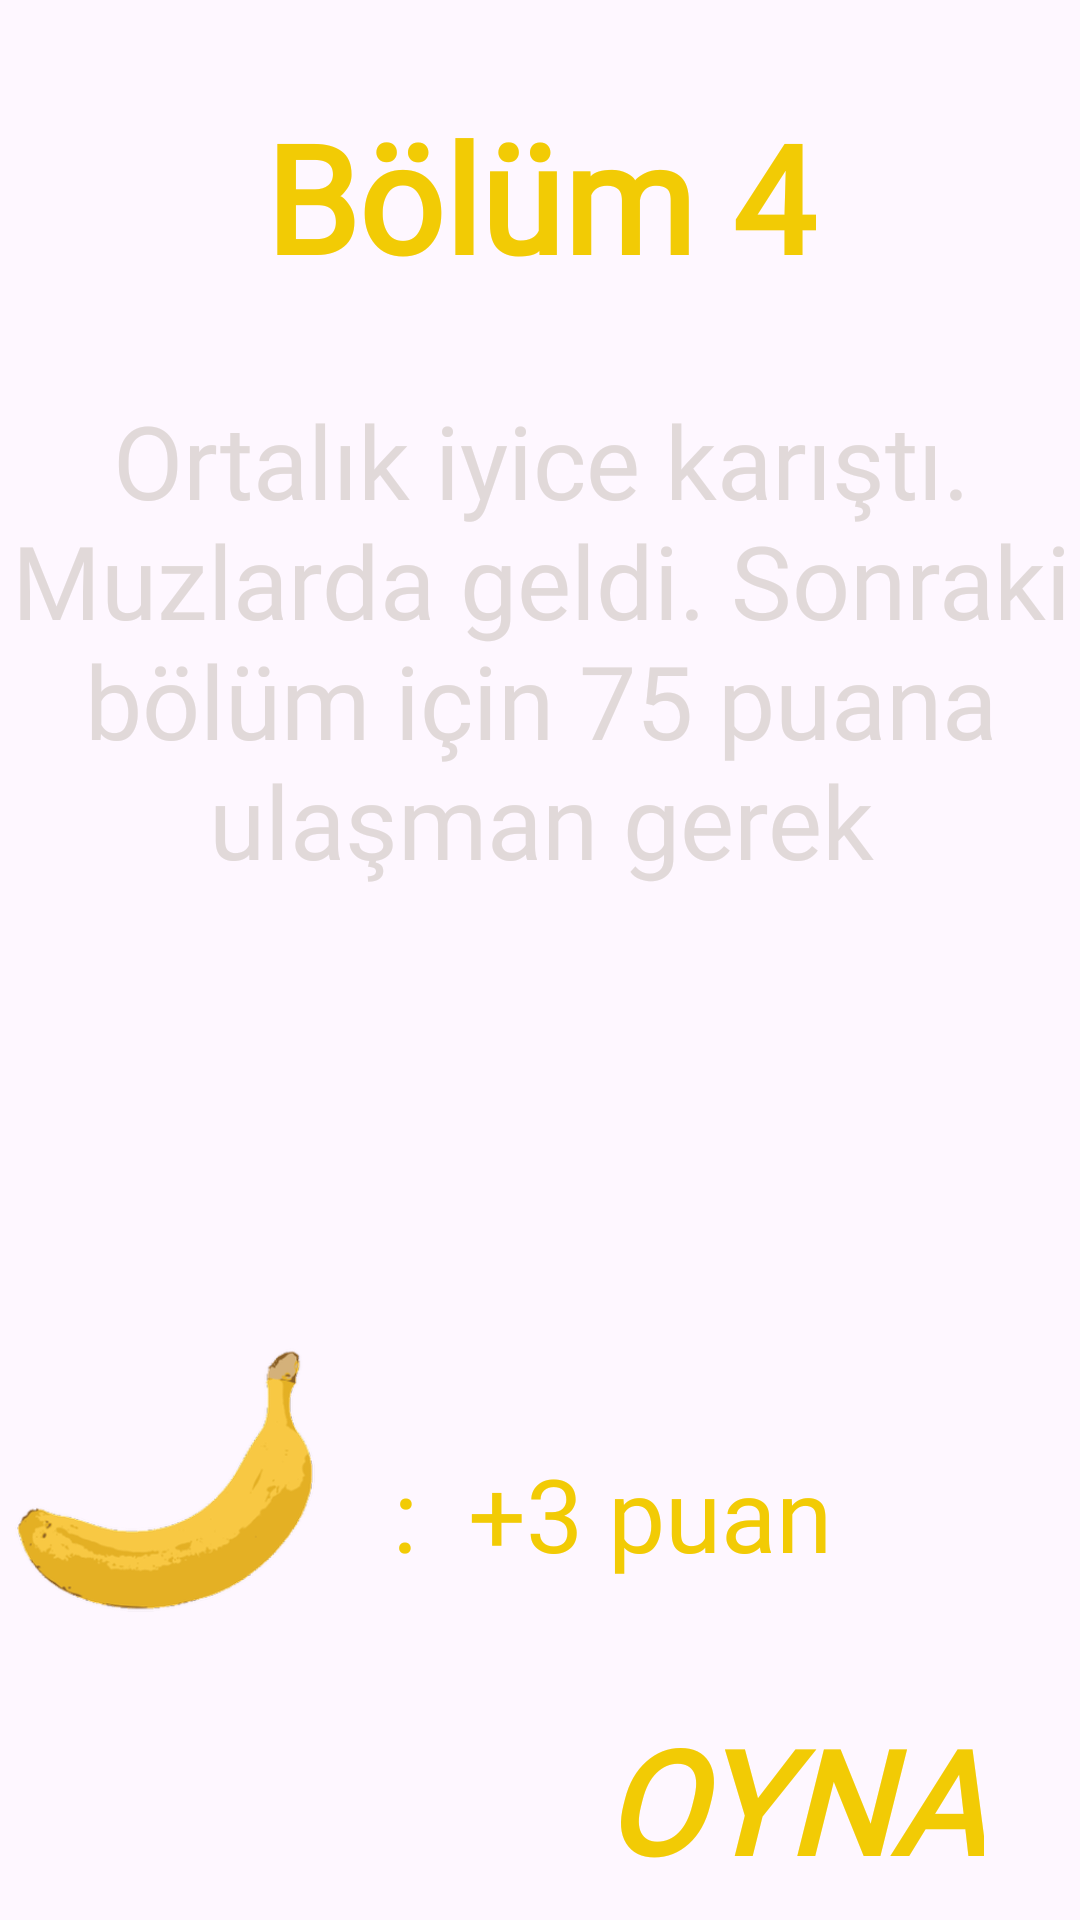

Point at icon controls on the screen. Image size 1080*1920, points as (x=x, y=y).
banana: (x=165, y=1480)
